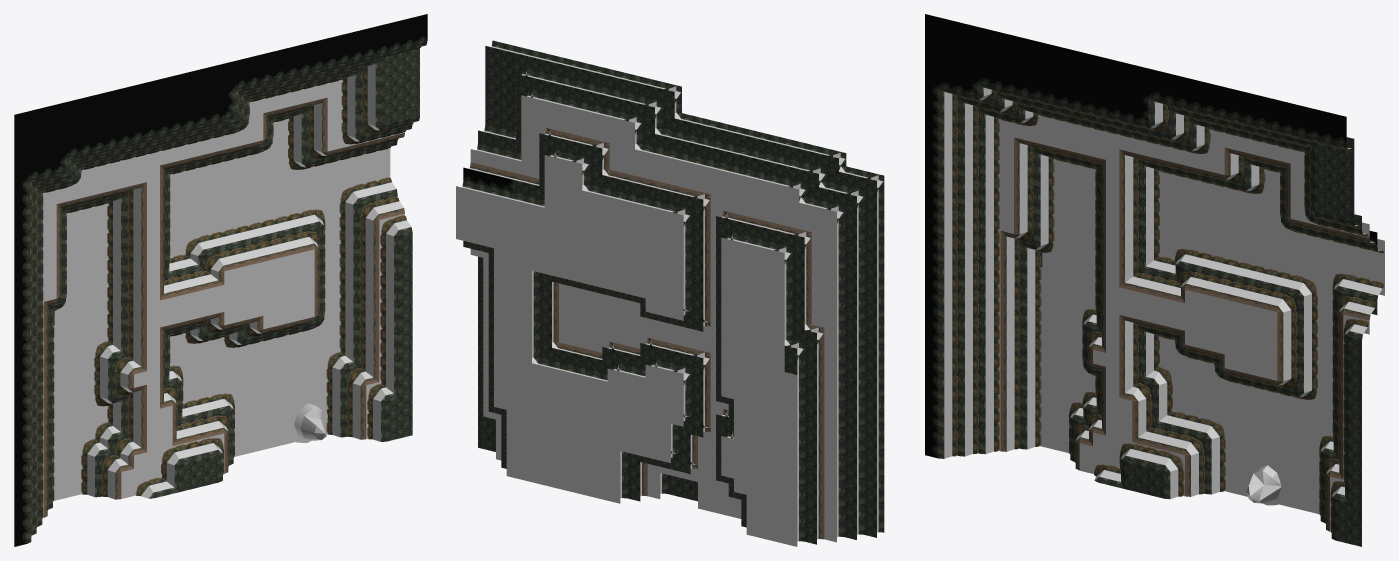
Rendered from Victory-Road-2_00_00.obj.
The picture shows the model from 3 angles, left to right: view 1: azimuth 30°, elevation 25°; view 2: azimuth 150°, elevation 25°; view 3: azimuth 330°, elevation 25°; orthographic projection. The views are drawn at different scales.
Parts seen in each view (by area): view 1: map; view 2: map; view 3: map.
Part boxes in pixels (box(x1,y1,x2,y2)): map: box(14, 14, 427, 546); map: box(456, 40, 884, 546); map: box(925, 14, 1384, 546).
Size of the model in its own units: 32 by 32 by 5.
